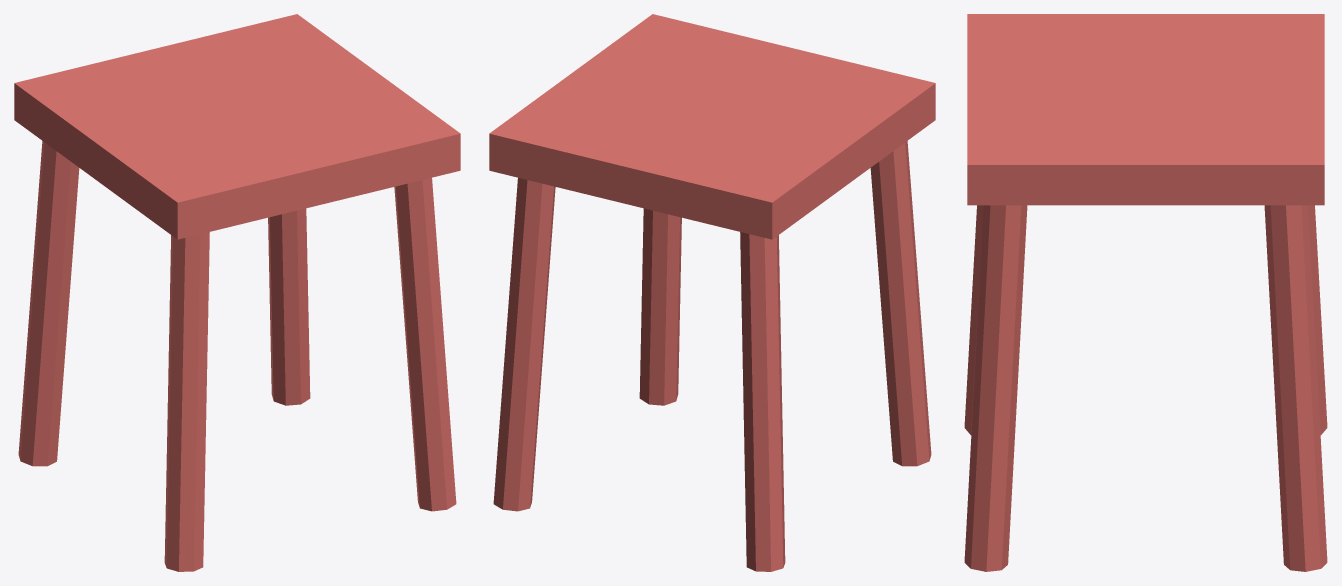
The model's file is Prop_PlasticStool.glb.
3 renders of one model, left to right at view 1: azimuth 30°, elevation 25°; view 2: azimuth 150°, elevation 25°; view 3: azimuth 270°, elevation 25°, orthographic. The views are drawn at different scales.
Visible parts, largest first — view 1: Top, L_-0.14_-0.14, L_0.14_-0.14, L_-0.14_0.14, L_0.14_0.14; view 2: Top, L_-0.14_0.14, L_0.14_0.14, L_-0.14_-0.14, L_0.14_-0.14; view 3: Top, L_0.14_0.14, L_0.14_-0.14, L_-0.14_0.14, L_-0.14_-0.14.
Boxes of the visible parts, box(x1,y1,x2,y2) form: Top: box(14, 14, 460, 239); L_-0.14_-0.14: box(164, 232, 209, 571); L_0.14_-0.14: box(394, 177, 456, 511); L_-0.14_0.14: box(18, 141, 79, 466); L_0.14_0.14: box(268, 208, 310, 405); Top: box(489, 14, 935, 239); L_-0.14_0.14: box(740, 232, 785, 571); L_0.14_0.14: box(493, 177, 555, 511); L_-0.14_-0.14: box(870, 141, 931, 466); L_0.14_-0.14: box(639, 208, 681, 405); Top: box(967, 14, 1324, 205); L_0.14_0.14: box(1264, 205, 1327, 571); L_0.14_-0.14: box(964, 205, 1027, 571); L_-0.14_0.14: box(1308, 205, 1327, 434); L_-0.14_-0.14: box(964, 205, 983, 434).
Bounding box in the file's own units: 0.3659 × 0.4541 × 0.3659.
